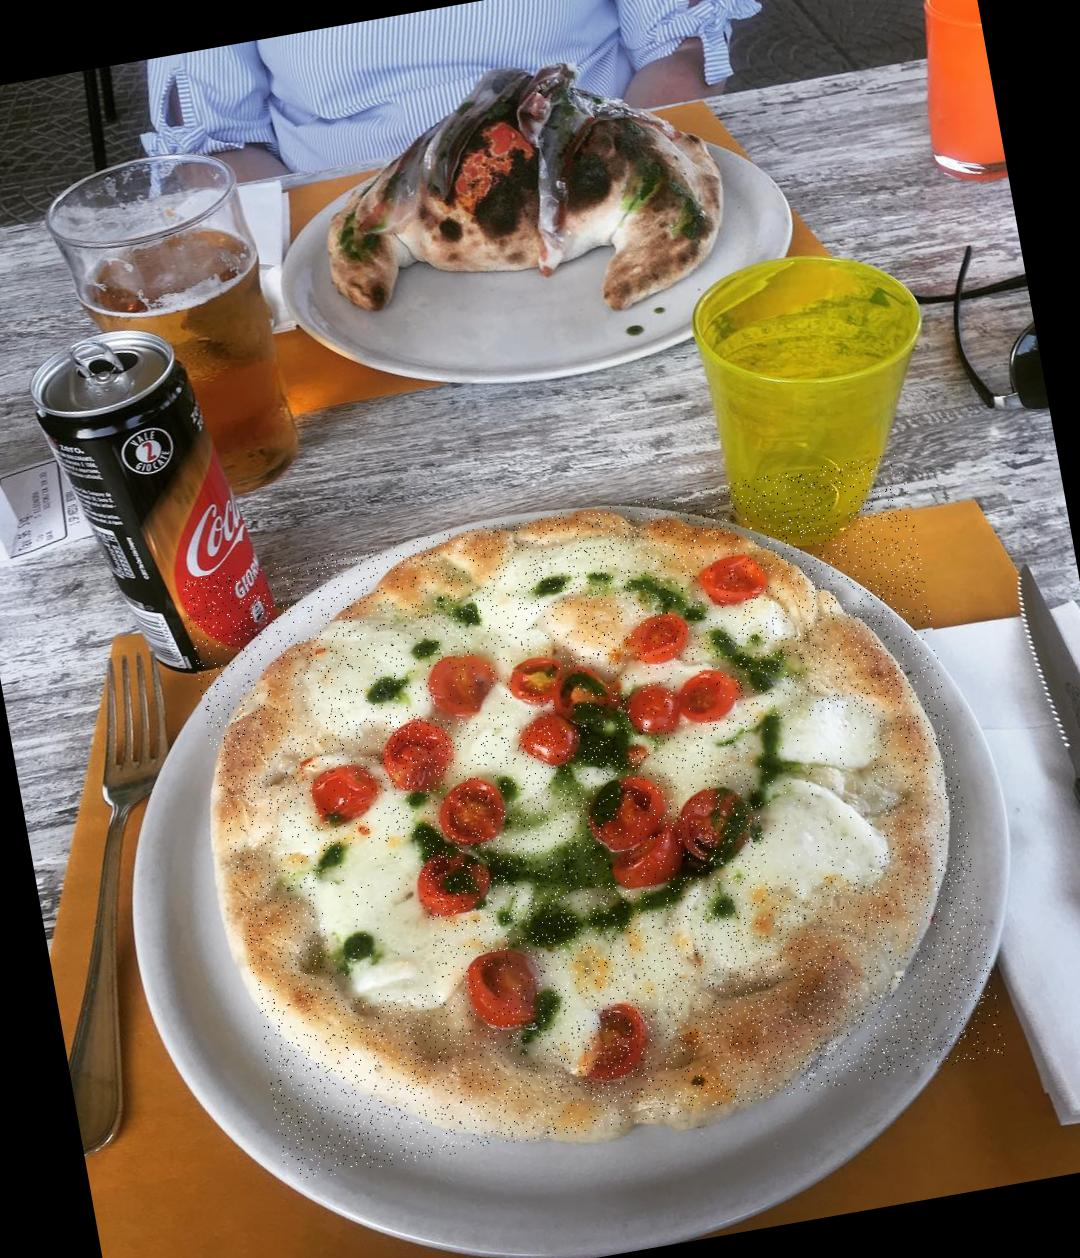Cheese: (542, 883, 786, 997), (745, 706, 889, 886), (313, 839, 441, 1001), (470, 538, 646, 618), (334, 630, 427, 721)
Pizza: (182, 452, 1008, 1184)
Tomatoes: (675, 782, 760, 871), (576, 998, 657, 1086), (585, 770, 668, 852), (414, 844, 498, 920), (466, 947, 542, 1030), (607, 820, 690, 892), (381, 717, 453, 794), (435, 776, 508, 849), (312, 762, 386, 828), (430, 649, 496, 721), (550, 663, 617, 728), (694, 550, 770, 608), (674, 668, 742, 728), (622, 612, 689, 666), (522, 710, 578, 770), (627, 684, 683, 736), (506, 651, 558, 701)
